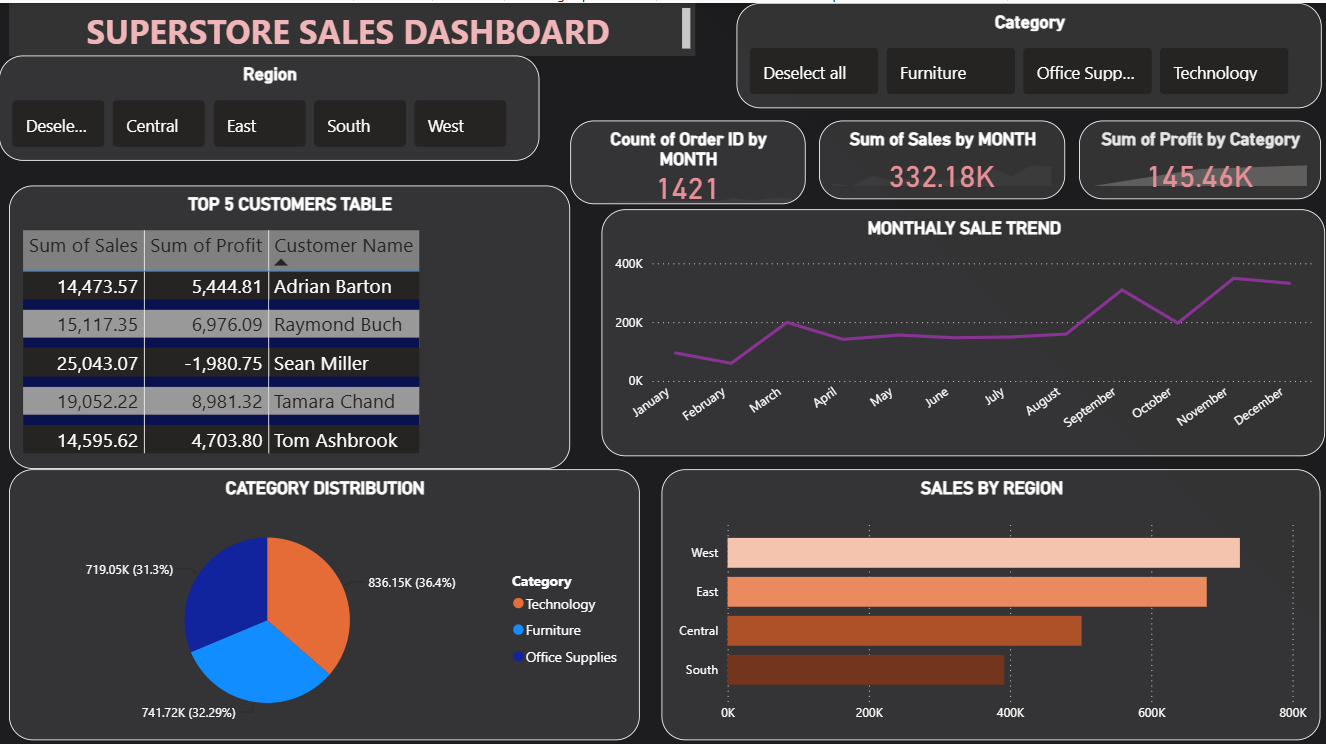

The page's visual inventory and layout, read from the dashboard file:
{"tool":"powerbi","page":{"name":"Page 1","canvas":[1280,720],"ordinal":0},"visuals":[{"type":"textbox","box":[10,0,662.5,50.8],"z":0},{"type":"lineChart","title":"MONTHALY SALE TREND","fields":{"Category":["DATA.Order Date.Variation.Date Hierarchy.Month"],"Y":["Sum(DATA.Sales)"]},"box":[581.2,198.8,698.8,238.8],"z":1000},{"type":"clusteredBarChart","title":"SALES BY REGION","fields":{"Category":["DATA.Region"],"Y":["Sum(DATA.Sales)"]},"box":[640,450,636.2,261.2],"z":2000},{"type":"pieChart","title":"CATEGORY DISTRIBUTION","fields":{"Category":["DATA.Category"],"Y":["Sum(DATA.Sales)"]},"box":[10,450,608.8,261.2],"z":3000},{"type":"tableEx","title":"TOP 5 CUSTOMERS TABLE","fields":{"Values":["Sum(DATA.Sales)","Sum(DATA.Profit)","DATA.Customer Name"]},"box":[10,176.2,541.2,273.8],"z":4000},{"type":"advancedSlicerVisual","fields":{"Values":["DATA.Region"]},"box":[0,50.8,521.7,101.7],"z":5000},{"type":"advancedSlicerVisual","fields":{"Values":["DATA.Category"]},"box":[711.2,0,565,101.2],"z":6000},{"type":"kpi","fields":{"Indicator":["Sum(DATA.Sales)"],"TrendLine":["DATA.MONTH"]},"box":[791.2,113.8,237.6,76.3],"z":6001},{"type":"kpi","fields":{"Indicator":["Sum(DATA.Profit)"],"TrendLine":["DATA.Category"]},"box":[1042.5,113.8,233.3,76.3],"z":6002},{"type":"kpi","fields":{"Indicator":["CountNonNull(DATA.Order ID)"],"TrendLine":["DATA.MONTH"]},"box":[550.9,113.6,226.9,80.6],"z":6003}]}

Visuals, with their boxes in screenshot pixels (x1, y1, x2, y2), scaled from the page's 1280x720 canvas onto the 1326x744 screenshot:
textbox: <region>10, 0, 697, 52</region>
"MONTHALY SALE TREND" lineChart: <region>602, 205, 1325, 452</region>
"SALES BY REGION" clusteredBarChart: <region>663, 465, 1322, 735</region>
"CATEGORY DISTRIBUTION" pieChart: <region>10, 465, 641, 735</region>
"TOP 5 CUSTOMERS TABLE" tableEx: <region>10, 182, 571, 465</region>
advancedSlicerVisual - DATA.Region: <region>0, 52, 540, 158</region>
advancedSlicerVisual - DATA.Category: <region>737, 0, 1322, 105</region>
kpi - Sum(DATA.Sales) x DATA.MONTH: <region>820, 118, 1066, 196</region>
kpi - Sum(DATA.Profit) x DATA.Category: <region>1080, 118, 1322, 196</region>
kpi - CountNonNull(DATA.Order ID) x DATA.MONTH: <region>571, 117, 806, 201</region>
